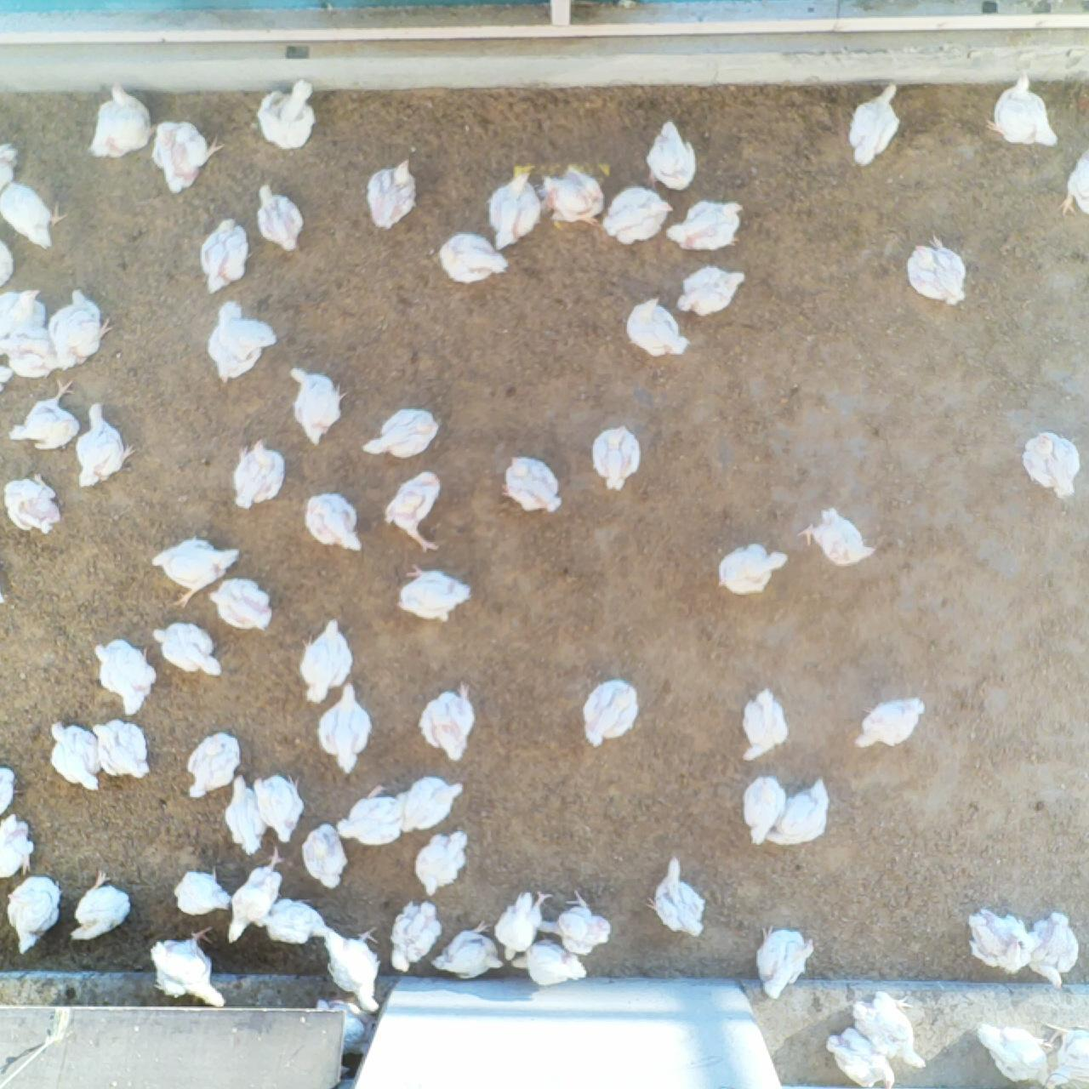chicken: (149, 533, 242, 608), (146, 923, 225, 1007), (849, 989, 930, 1069), (223, 846, 289, 943), (208, 300, 281, 387), (983, 69, 1061, 149), (150, 112, 225, 193), (85, 81, 159, 162), (315, 683, 378, 775), (533, 887, 616, 955), (822, 1023, 907, 1089), (380, 469, 448, 551), (644, 857, 711, 940), (8, 379, 82, 454), (64, 866, 135, 944), (323, 924, 385, 1013), (75, 399, 135, 489), (91, 639, 158, 718), (1, 872, 64, 956), (797, 504, 877, 570), (974, 1018, 1050, 1087), (577, 675, 644, 753), (286, 366, 352, 445), (752, 922, 818, 1001), (760, 777, 835, 846), (393, 563, 475, 626), (50, 285, 113, 367), (297, 618, 356, 705), (357, 155, 423, 232), (846, 81, 903, 167), (0, 180, 67, 253), (417, 682, 480, 758), (905, 230, 966, 308), (432, 916, 505, 981), (332, 783, 405, 848), (483, 170, 544, 247), (598, 184, 672, 247), (505, 935, 590, 989), (198, 214, 253, 297), (1016, 429, 1081, 499), (1029, 906, 1083, 990), (435, 228, 510, 288), (255, 76, 315, 150), (855, 691, 928, 751), (494, 885, 550, 963), (964, 908, 1033, 971), (298, 820, 355, 896), (644, 117, 700, 194), (623, 296, 691, 359), (413, 826, 471, 899), (501, 451, 566, 516), (229, 438, 288, 509), (737, 770, 790, 849), (185, 730, 243, 802), (716, 539, 788, 597), (539, 164, 604, 228), (736, 687, 788, 767), (91, 717, 154, 783), (673, 263, 748, 318), (152, 620, 221, 679), (389, 896, 443, 971), (3, 470, 65, 534), (667, 200, 743, 252), (309, 985, 365, 1055), (302, 490, 364, 553), (256, 895, 331, 947), (208, 578, 277, 634), (356, 410, 440, 456), (254, 770, 306, 844), (401, 774, 465, 834), (1035, 1020, 1089, 1089), (222, 773, 267, 854), (50, 721, 102, 791), (590, 426, 646, 490), (254, 183, 307, 250), (0, 322, 63, 377), (175, 865, 236, 917), (0, 286, 51, 340), (0, 814, 41, 881), (1058, 143, 1089, 220), (0, 766, 21, 819), (0, 143, 19, 193), (0, 237, 15, 286)
